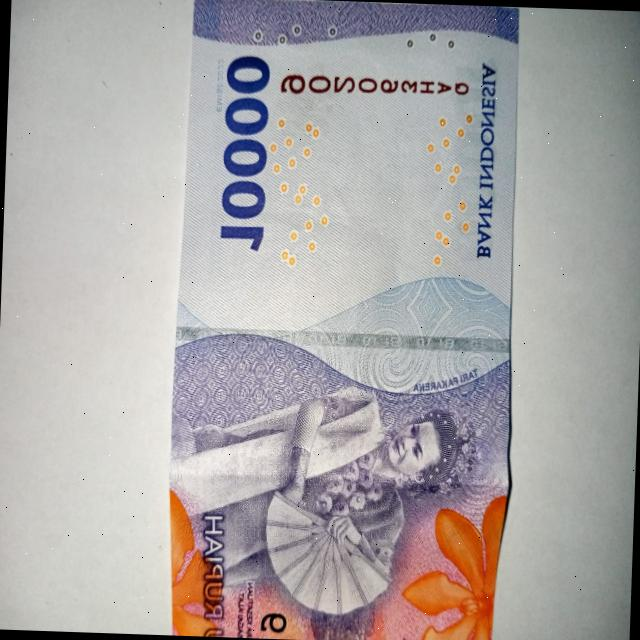10K: (156, 0, 536, 640)
